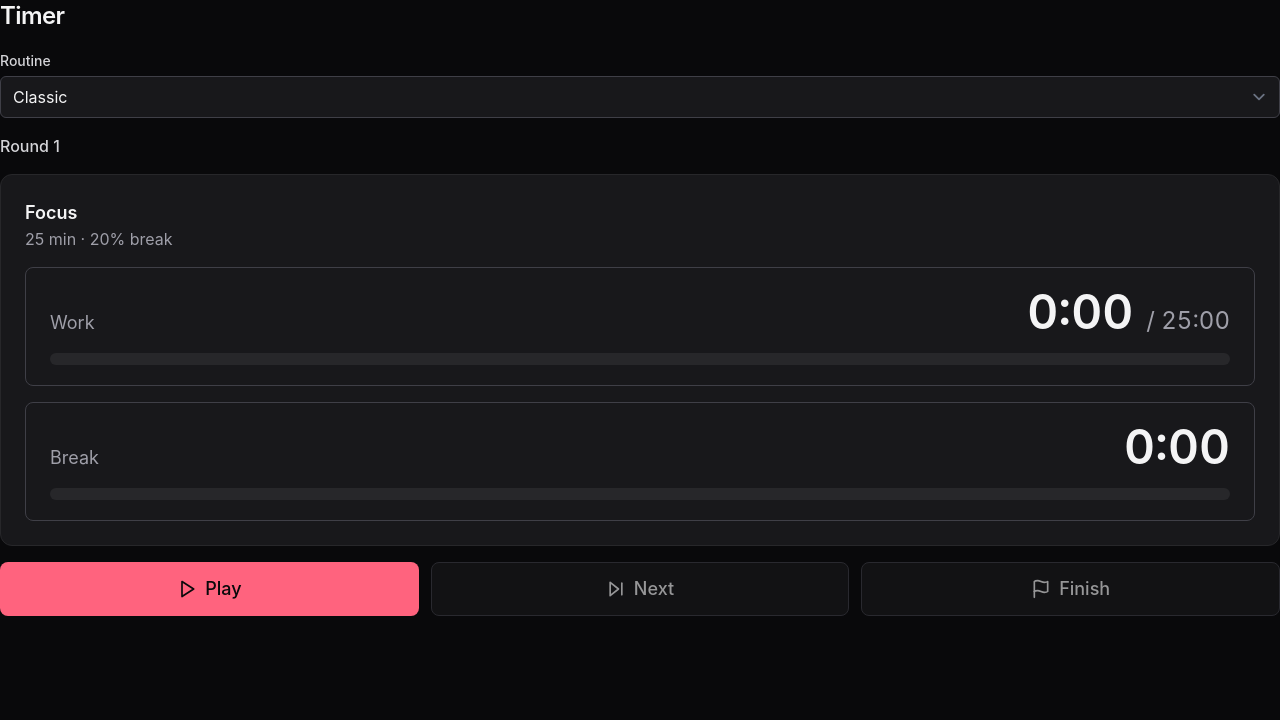
Scenario: running a routine from the Timer screen › asks before Finish ends the run, and keeps counting while it asks
Click the button "Play": (209, 589) [0,562,419,616]
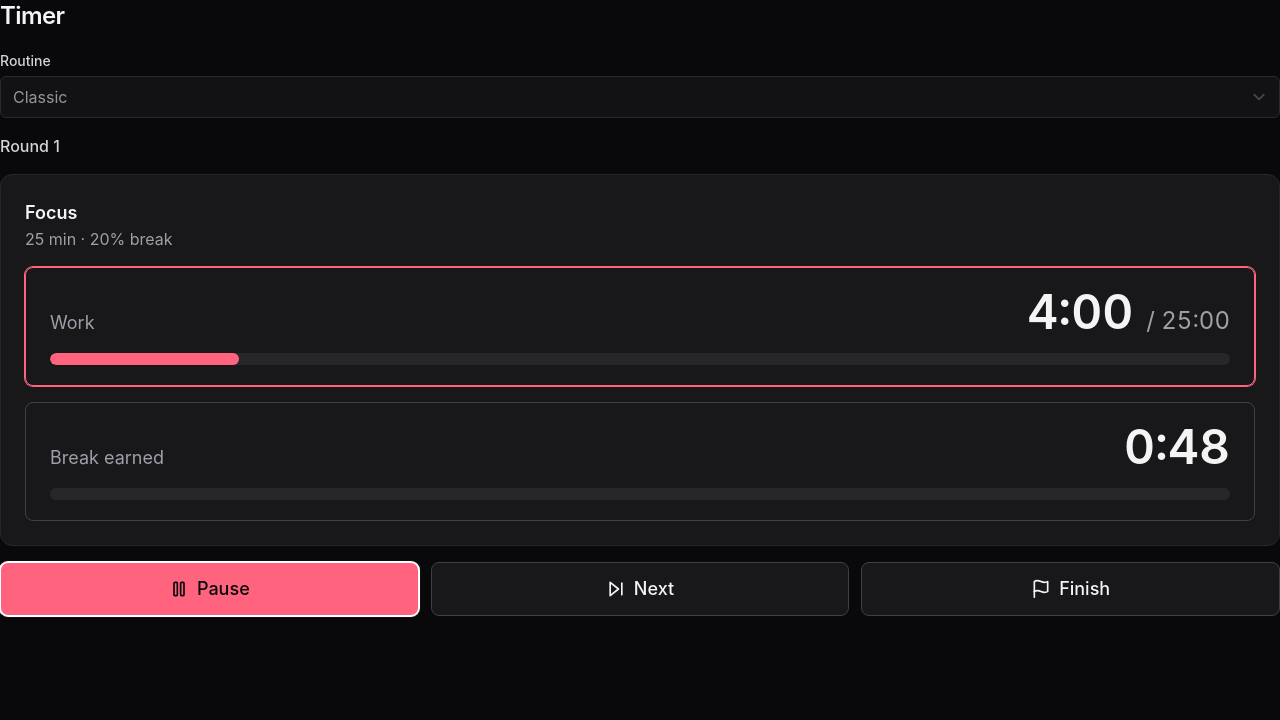
Click the button "Finish": (1071, 589) [861,562,1279,616]
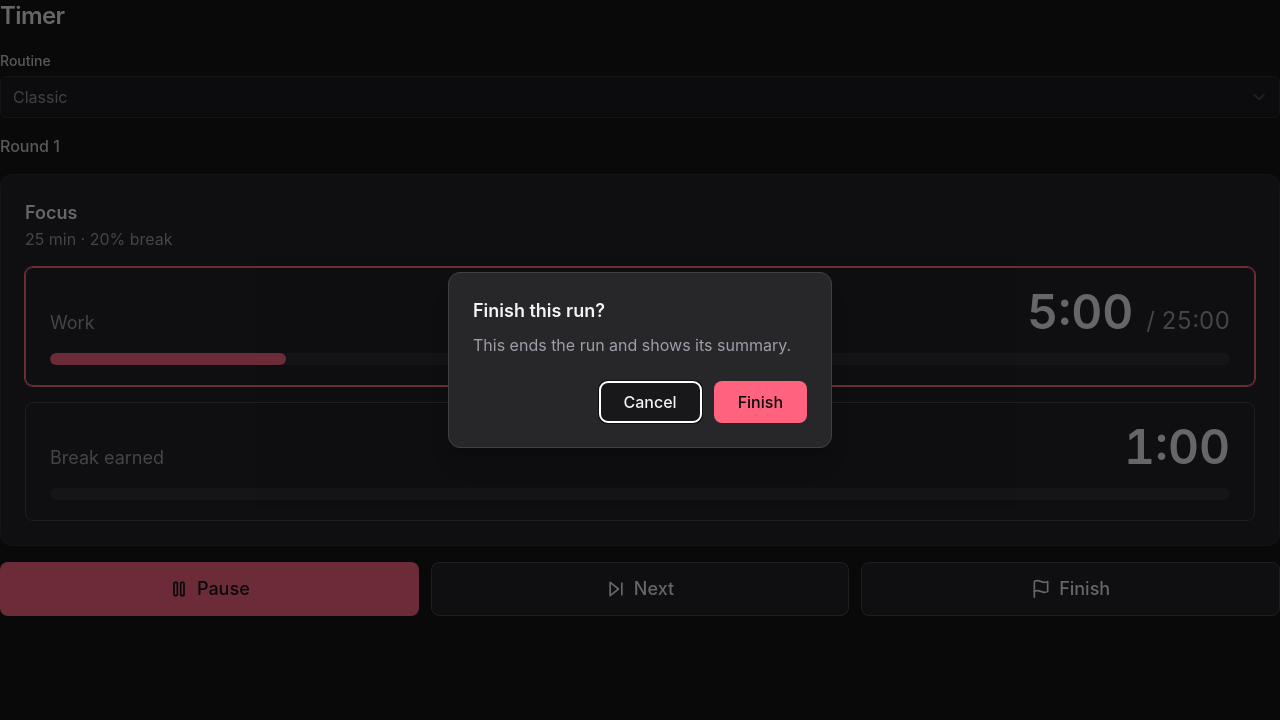
Expected: the element "Work 5:00 / 25:00" is shown, [25,267,1255,386]
